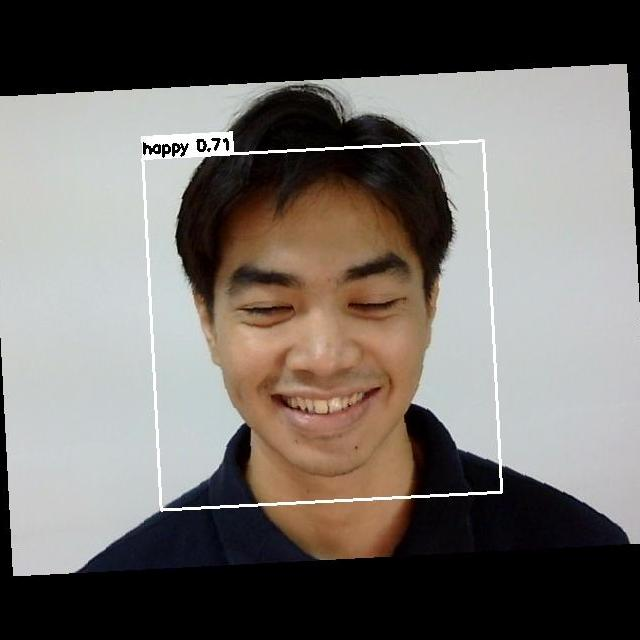Happy: (202, 235, 420, 438)
